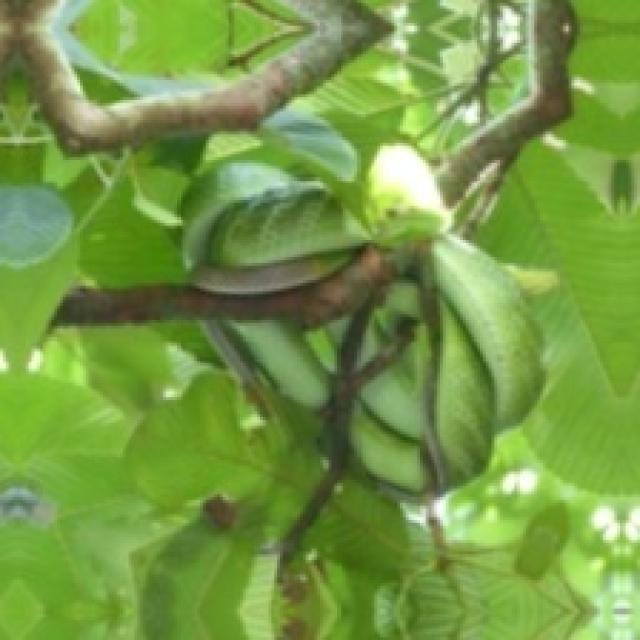red-tailed green ratsnake: (183, 163, 540, 491), (234, 323, 329, 406)
